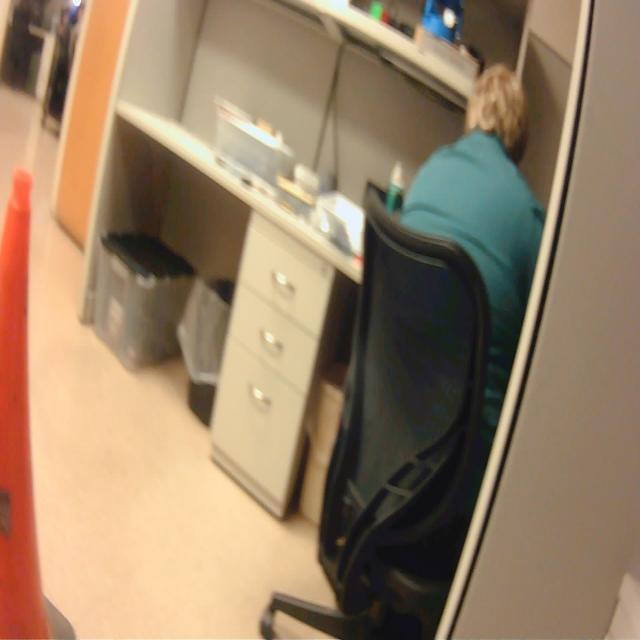traffic cone: (1, 158, 82, 640)
